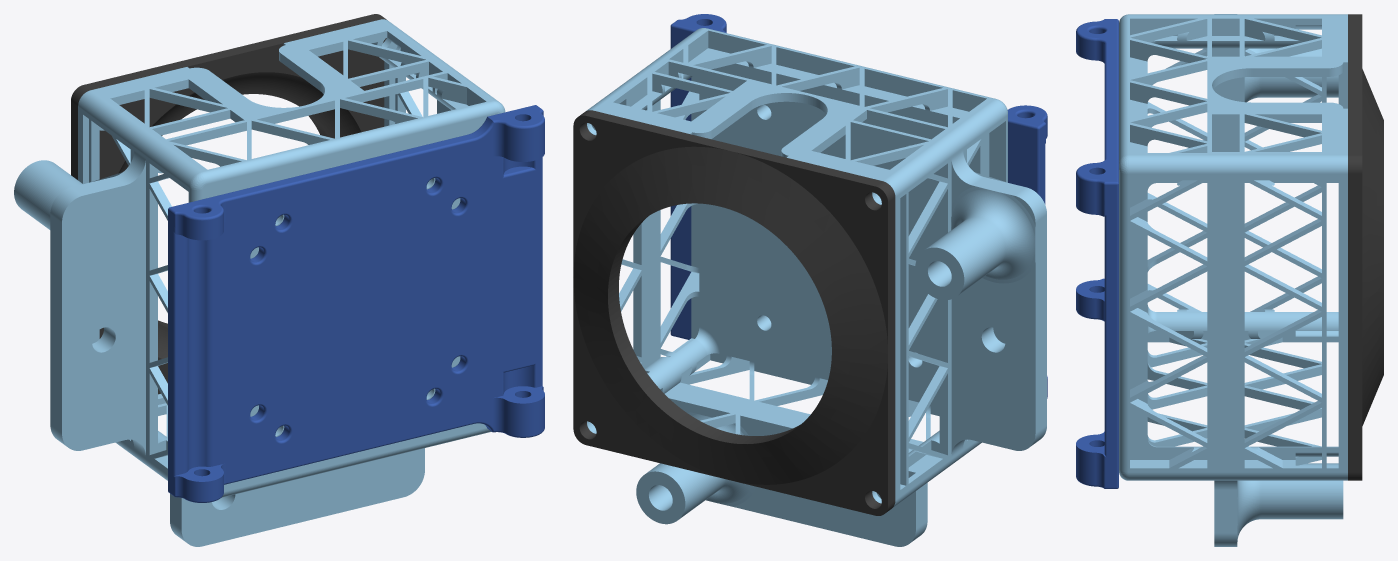
Rendered from lidar_base.dae.
3 renders of one model, left to right at view 1: azimuth 30°, elevation 25°; view 2: azimuth 150°, elevation 25°; view 3: azimuth 270°, elevation 25°, orthographic.
Parts seen in each view (by area): view 1: node1, node0, node2; view 2: node0, node2, node1; view 3: node0, node2, node1.
Part boxes in pixels (bbox=[...]): node1: bbox=[168, 105, 544, 502]; node0: bbox=[14, 19, 505, 546]; node2: bbox=[71, 14, 386, 394]; node0: bbox=[586, 28, 1046, 546]; node2: bbox=[573, 110, 895, 515]; node1: bbox=[670, 14, 1047, 398]; node0: bbox=[1119, 14, 1347, 546]; node2: bbox=[1348, 14, 1383, 480]; node1: bbox=[1076, 19, 1118, 488].
Size of the model in its own units: 0.1015 by 0.0645 by 0.095.
